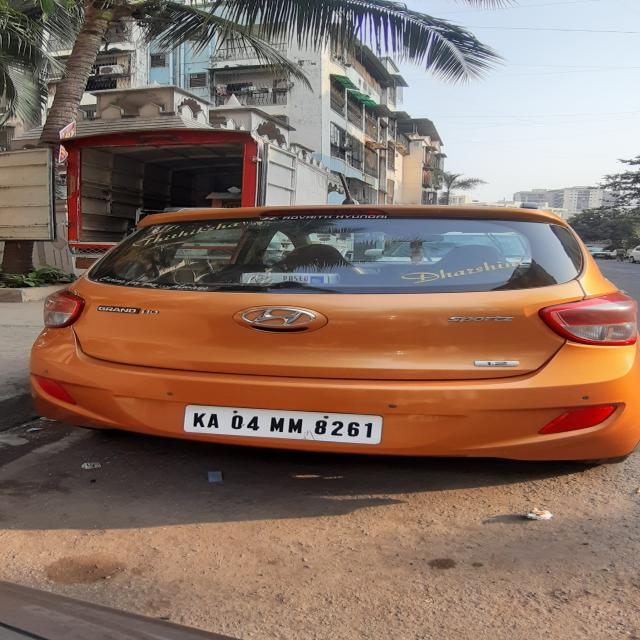Number-Plate: (186, 405, 378, 445)
